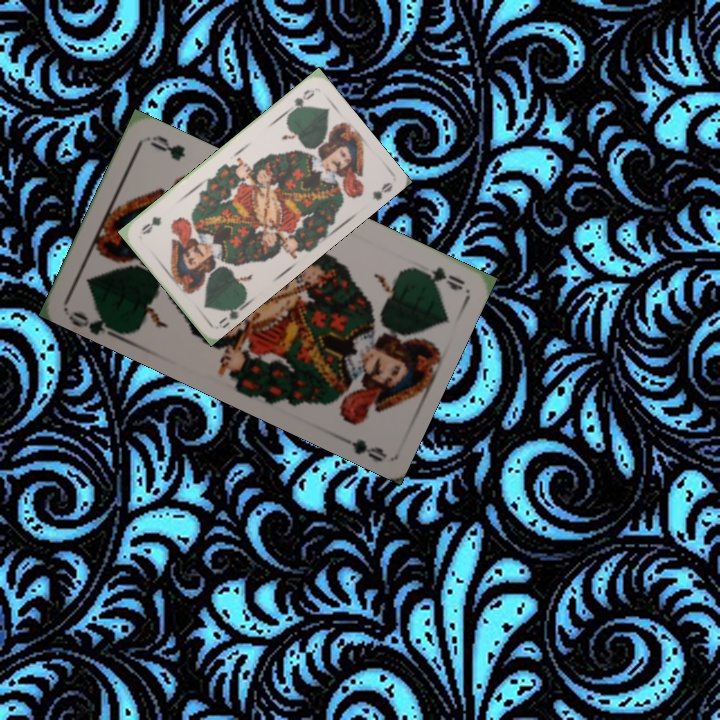GO: (65, 303, 123, 342), (408, 262, 467, 293), (282, 85, 317, 117), (215, 299, 249, 326)
